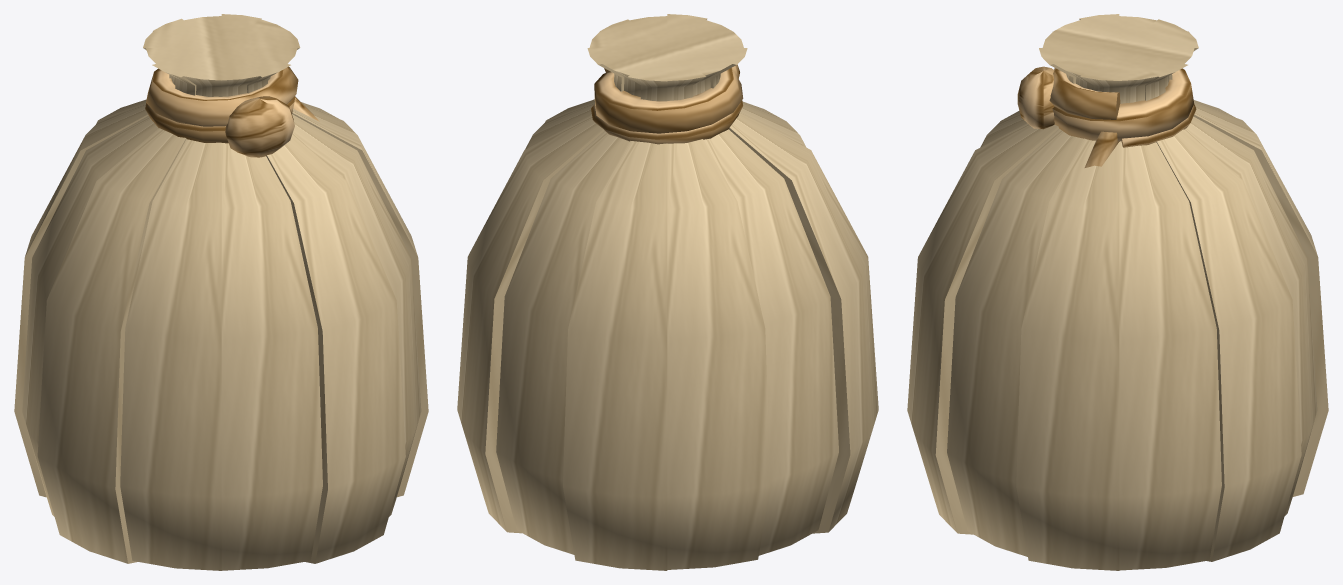
Rendered from SM_Sack.glb.
3 renders of one model, left to right at view 1: azimuth 30°, elevation 25°; view 2: azimuth 150°, elevation 25°; view 3: azimuth 270°, elevation 25°, orthographic.
Parts seen in each view (by area): view 1: SM_Sack; view 2: SM_Sack; view 3: SM_Sack.
Part boxes in pixels (x1=…): SM_Sack: x1=14, y1=14, x2=428, y2=570; SM_Sack: x1=457, y1=14, x2=878, y2=570; SM_Sack: x1=907, y1=14, x2=1328, y2=570.
Size of the model in its own units: 0.5709 by 0.7 by 0.5751.
1 material, 1 textured.
